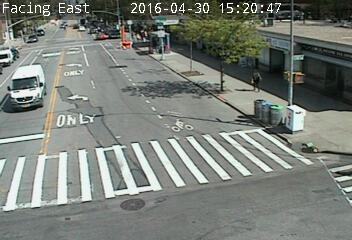neg: (195, 68, 217, 96), (6, 44, 17, 60)
pos: (248, 68, 267, 93)
